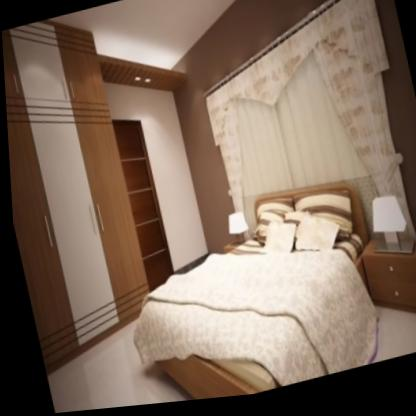Bed: (132, 178, 383, 407)
Closet: (2, 25, 153, 356)
Curtains: (202, 0, 404, 218)
Lamp: (360, 193, 414, 265), (217, 205, 252, 253)
